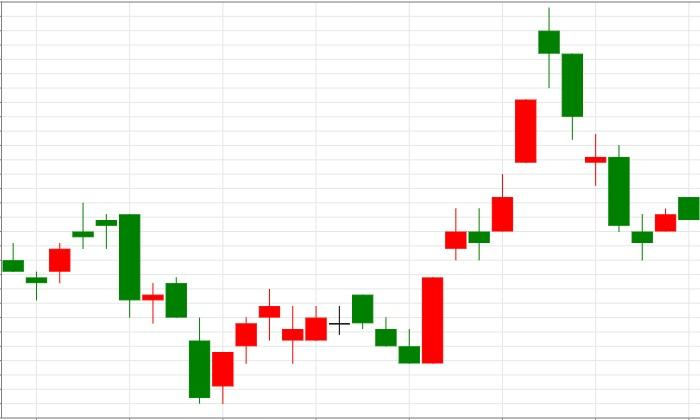bullish_engulfing_rise: (352, 276, 444, 364)
three_black_crows_fall: (281, 294, 421, 364)
